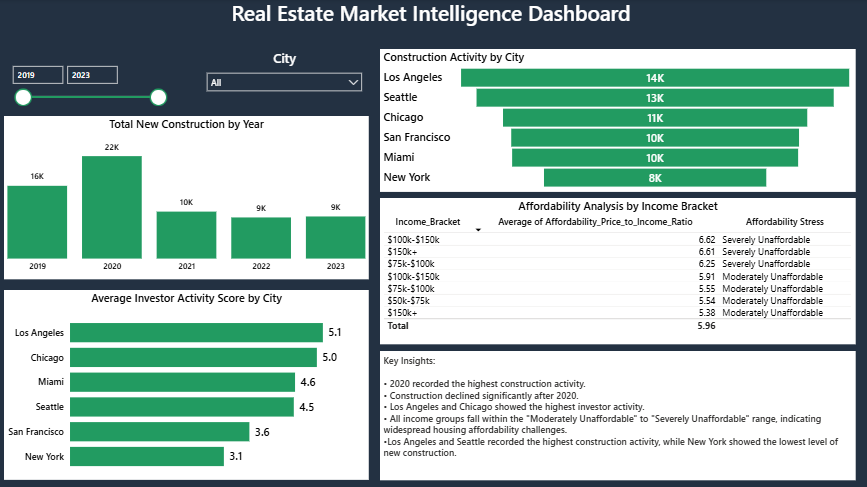

The dashboard page shown, as its layout file describes it:
{"tool":"powerbi","page":{"name":"Supply, Investment & Affordability Analysis","canvas":[1280,720],"ordinal":2},"visuals":[{"type":"clusteredColumnChart","title":"Total New Construction by Year","fields":{"Y":["Properties_transactions.Total_New_Construction"],"Category":["Market_trends.Year"]},"box":[10.3,171.9,536.3,239.5],"z":0},{"type":"funnel","title":"Construction Activity by City","fields":{"Category":["Market_trends.City"],"Y":["Sum(Market_trends.New_Construction_Count)"]},"box":[562.8,73.5,699.4,210.1],"z":1000},{"type":"clusteredBarChart","title":"Average Investor Activity Score by City","fields":{"Category":["Market_trends.City"],"Y":["Avg(Market_trends.Investor_Activity_Score)"]},"box":[10.3,427.6,536.3,279.2],"z":2000},{"type":"tableEx","title":"Affordability Analysis by Income Bracket","fields":{"Values":["Market_trends.Income_Bracket","Avg(Market_trends.Affordability_Price_to_Income_Ratio)","Market_trends.Affordability Stress"]},"box":[562.8,292.4,699.4,214.5],"z":3000},{"type":"textbox","box":[562.8,517.2,699.4,189.6],"z":4000},{"type":"textbox","title":"Real Estate Market Intelligence Dashboard","box":[339.5,0,601,42.6],"z":6001},{"type":"slicer","title":"Year","fields":{"Values":["Market_trends.Year"]},"box":[10.3,73.5,248.3,88.2],"z":6002},{"type":"slicer","title":"City","fields":{"Values":["Market_trends.City"]},"box":[298.3,73.5,248.3,88.2],"z":6003}]}

Visuals, with their boxes in screenshot pixels (x1, y1, x2, y2), scaled from the page's 1280x720 canvas onto the 867x487 screenshot:
"Total New Construction by Year" clusteredColumnChart: 7/116/370/278
"Construction Activity by City" funnel: 381/50/855/192
"Average Investor Activity Score by City" clusteredBarChart: 7/289/370/478
"Affordability Analysis by Income Bracket" tableEx: 381/198/855/343
textbox: 381/350/855/478
"Real Estate Market Intelligence Dashboard" textbox: 230/0/637/29
"Year" slicer: 7/50/175/109
"City" slicer: 202/50/370/109
